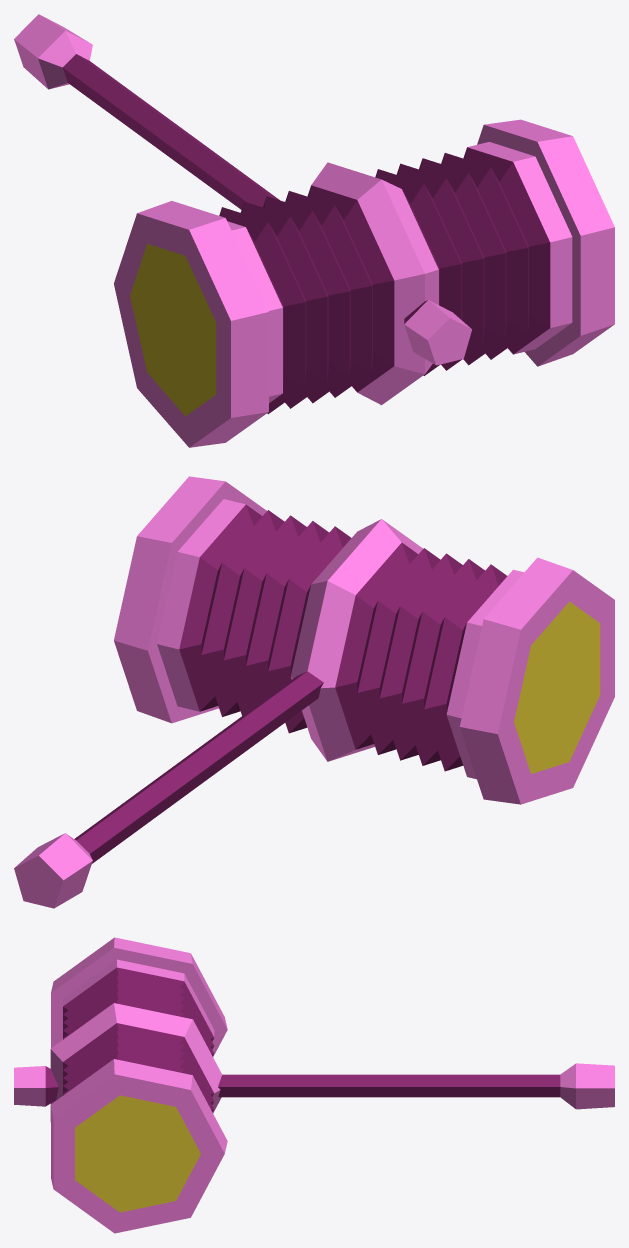
The model's file is hammer.fbx.
The picture shows the model from 3 angles, top to bottom: view 1: azimuth 30°, elevation 25°; view 2: azimuth 150°, elevation 25°; view 3: azimuth 270°, elevation 25°; orthographic projection. The views are drawn at different scales.
Parts seen in each view (by area): view 1: Cylinder.001; view 2: Cylinder.001; view 3: Cylinder.001.
Part boxes in pixels (<box>): Cylinder.001: <box>14,14,614,447</box>; Cylinder.001: <box>14,476,614,908</box>; Cylinder.001: <box>14,937,614,1233</box>.
Bounding box in the file's own units: 407 × 228 × 754.
